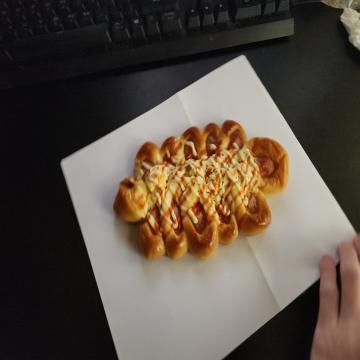pizza_bread: (113, 121, 291, 261)
